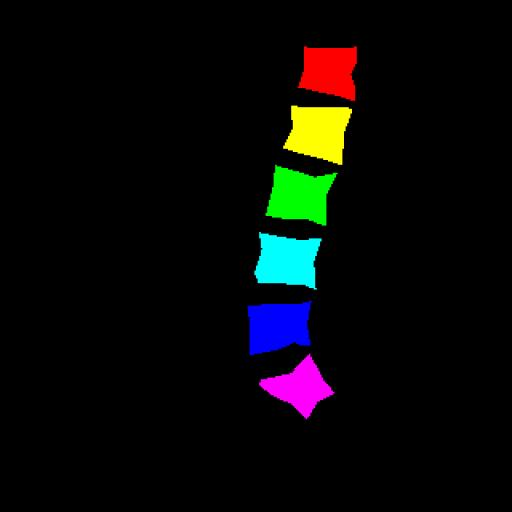L1: (298, 47, 357, 100)
L2: (283, 106, 352, 165)
L3: (266, 165, 337, 226)
L4: (255, 234, 321, 288)
L5: (248, 302, 310, 354)
S1: (259, 354, 334, 418)
